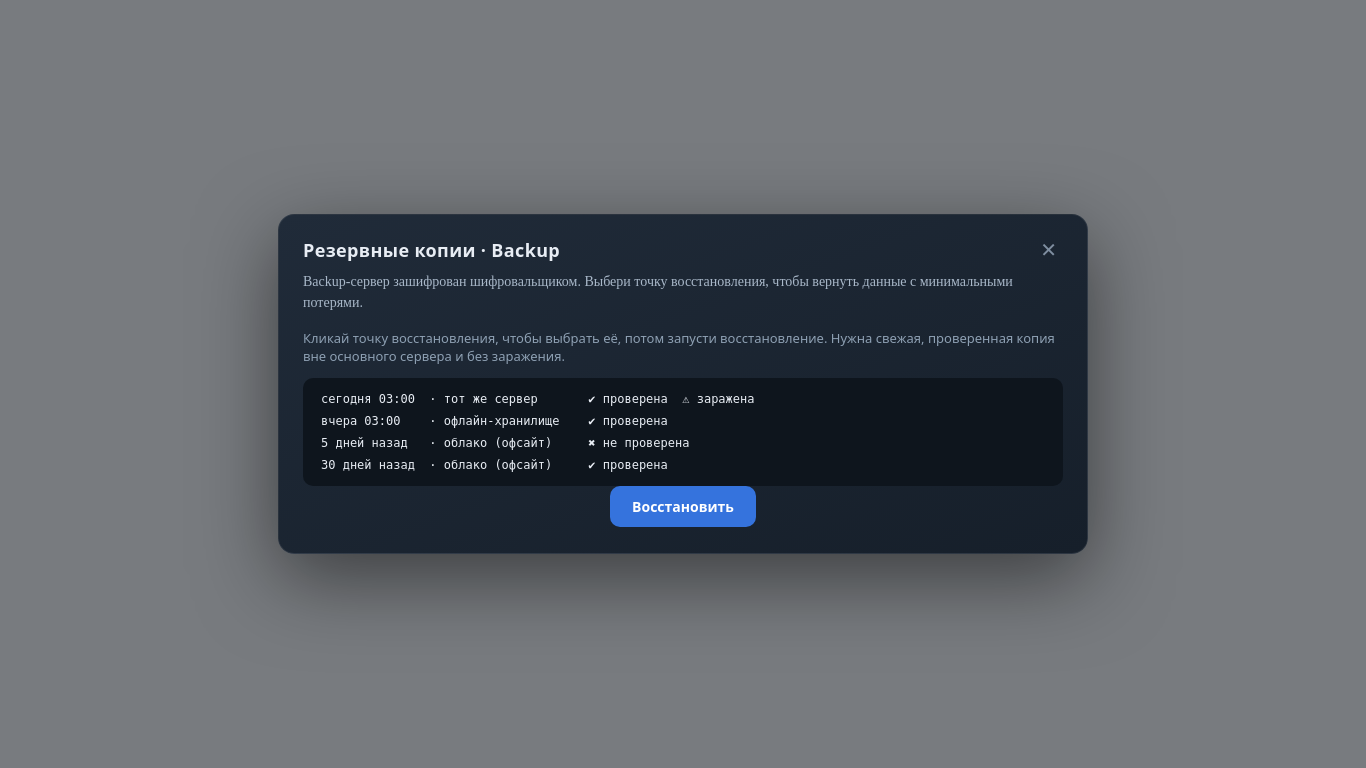
MinigameOverlay (break → render → repair) › a wrong restore point fails, counts the attempt, and offers a retry
// "сегодня 03:00" in SCENARIOS[0] is infected → an invalid restore point.
Step 1. Click the text "сегодня 03:00 · тот же сервер ✔ проверена ⚠ заражена" → (538, 399), box [321,392,754,406]
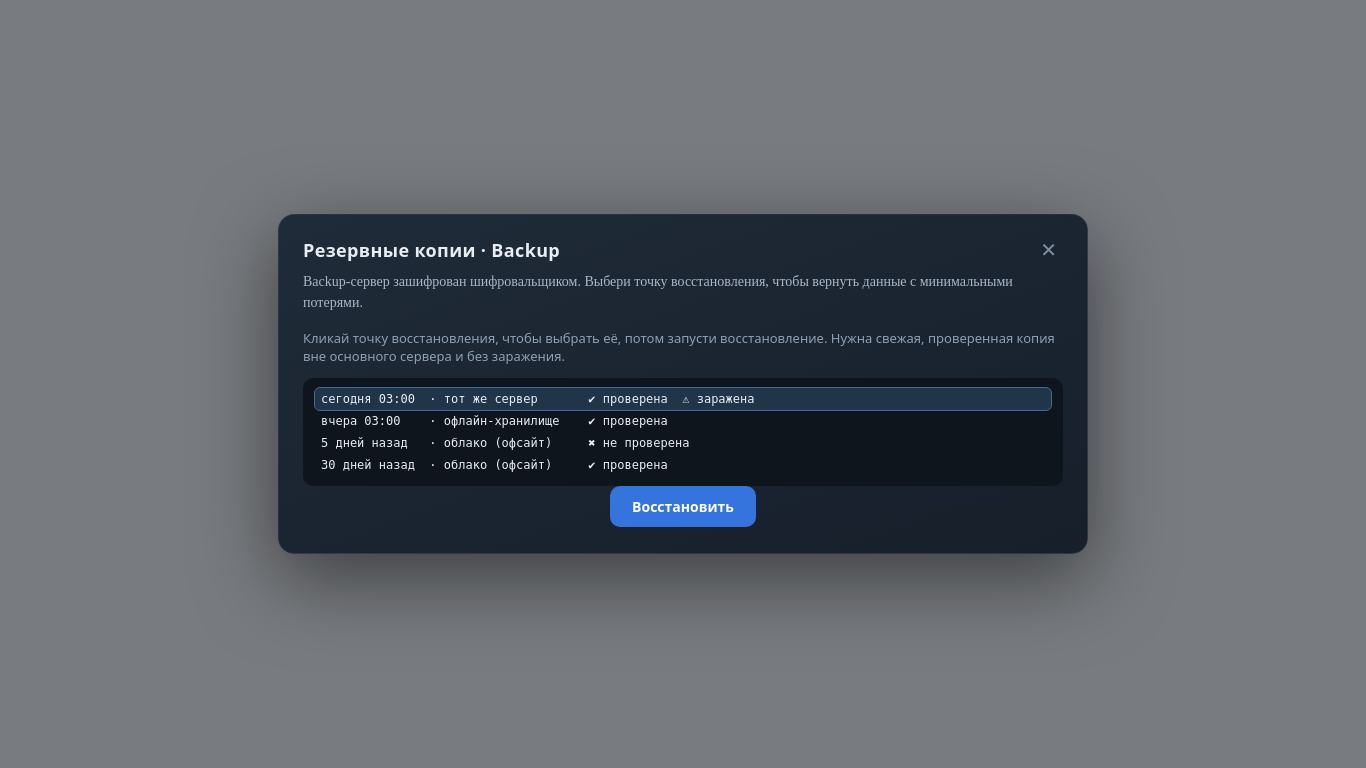
Step 2. Click the button "Восстановить" → (683, 506), box [610,486,756,527]
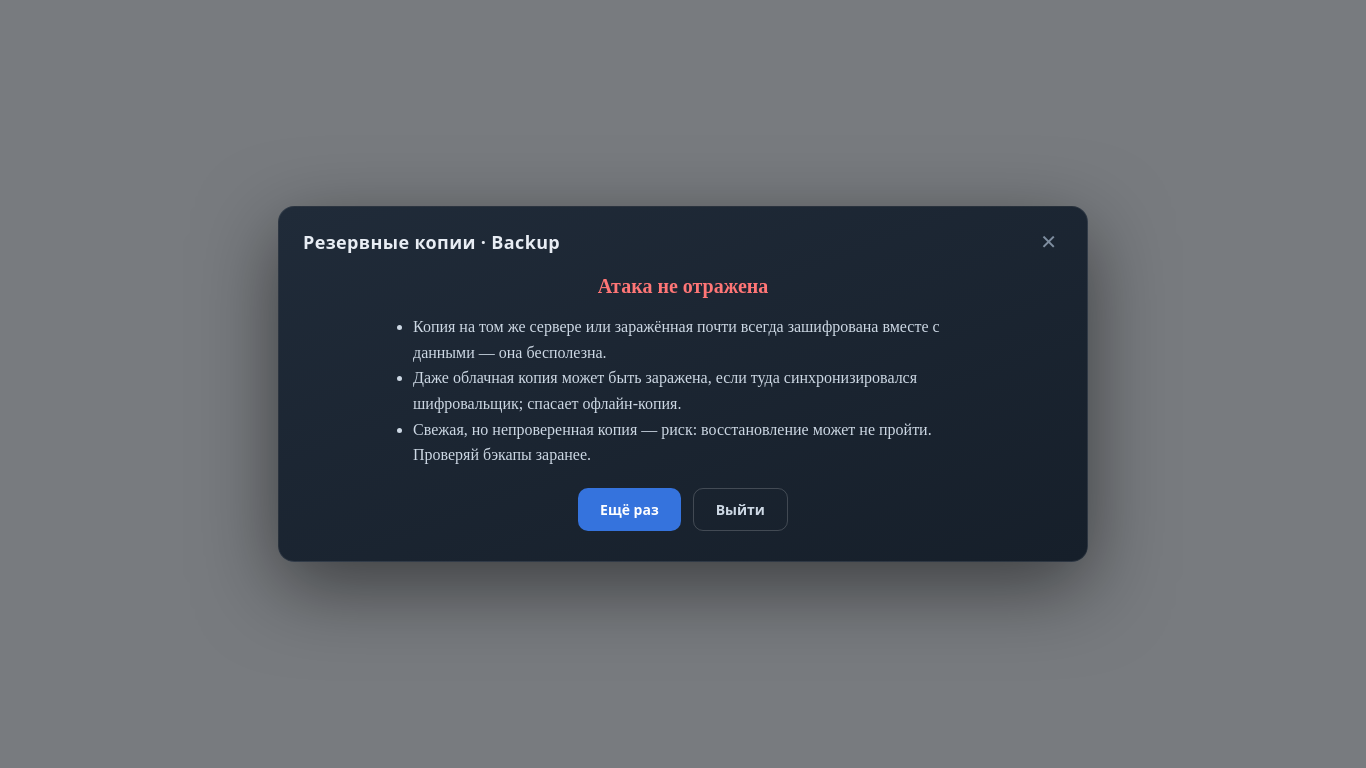
expect the heading "Атака не отражена" is shown: met, box [598,275,768,297]
expect the button "Ещё раз" is shown: met, box [578,488,681,531]
